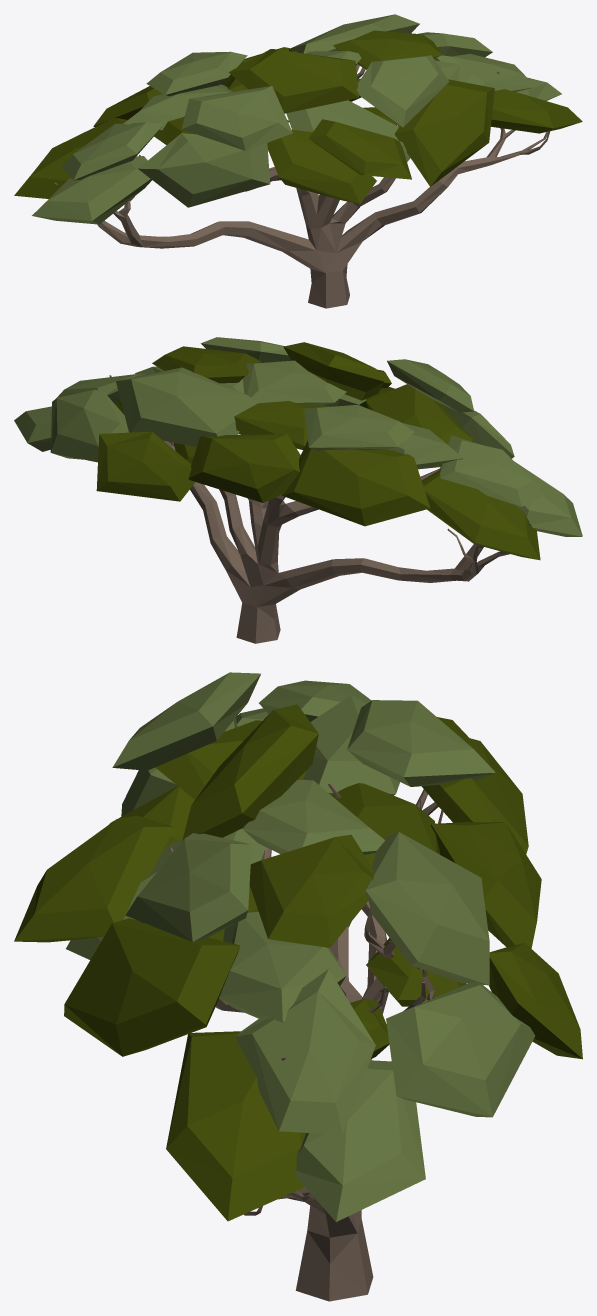
File: tree_0004.dae
3 views of the same model, one above another, from view 1: azimuth 30°, elevation 25°; view 2: azimuth 150°, elevation 25°; view 3: azimuth 270°, elevation 25° (orthographic). The views are drawn at different scales.
Parts seen in each view (by area): view 1: tree_0004; view 2: tree_0004; view 3: tree_0004.
Part boxes in pixels (<box>): tree_0004: <box>14,14,582,308</box>; tree_0004: <box>14,337,582,643</box>; tree_0004: <box>14,672,582,1301</box>.
Size of the model in its own units: 7.72 by 3.85 by 3.75.
